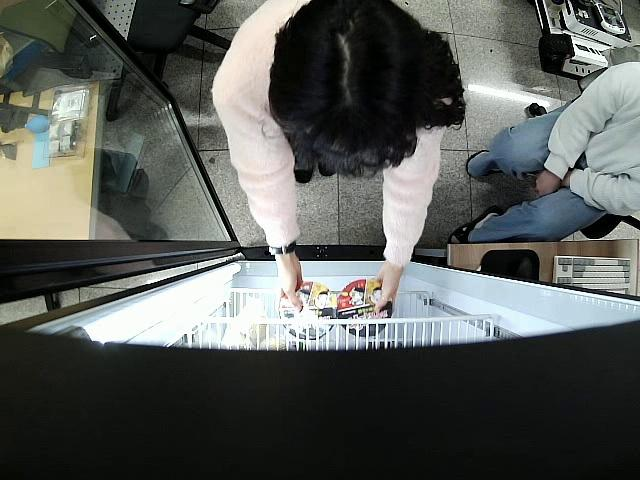00_hand: (271, 259, 309, 317), (372, 269, 399, 322)
07_buldak_L: (278, 283, 335, 344), (340, 281, 392, 338)
